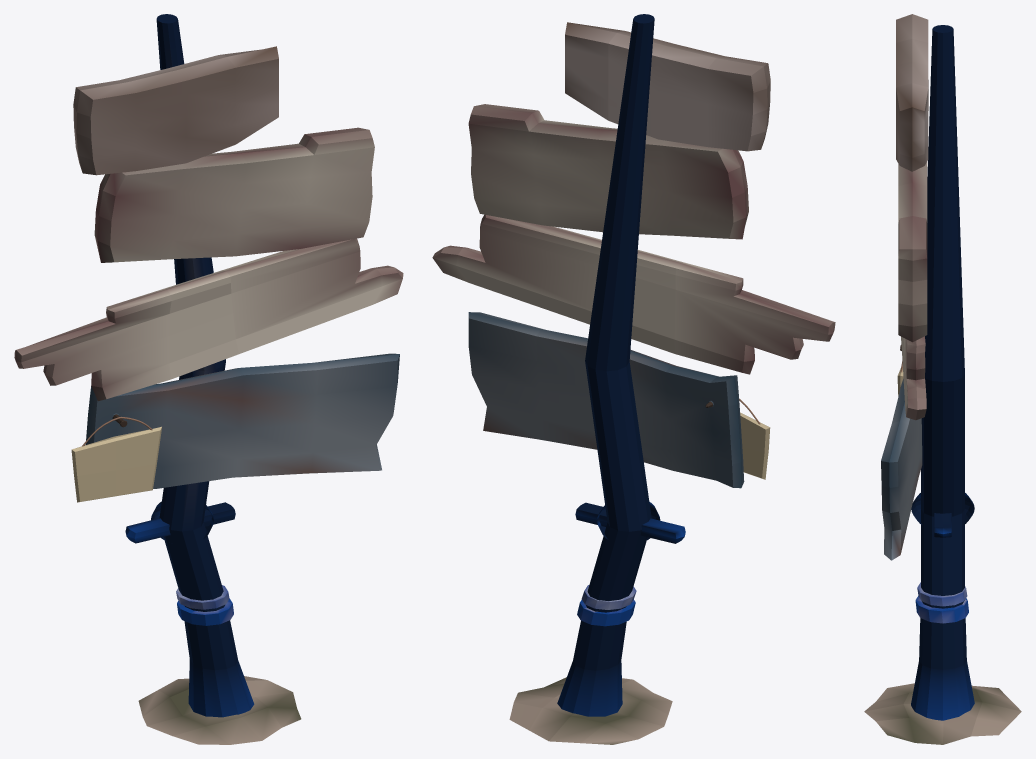
Rendered from Sign.fbx.
3 views of the same model, side by side, from view 1: azimuth 30°, elevation 25°; view 2: azimuth 150°, elevation 25°; view 3: azimuth 270°, elevation 25° (orthographic). The views are drawn at different scales.
Parts seen in each view (by area): view 1: Sign; view 2: Sign; view 3: Sign.
Boxes of the visible parts, x1,y1,x2,y2 form: Sign: (14,14,403,744); Sign: (432,14,835,744); Sign: (864,14,1021,744).
Bounding box in the file's own units: 84.84 × 148 × 31.56.
